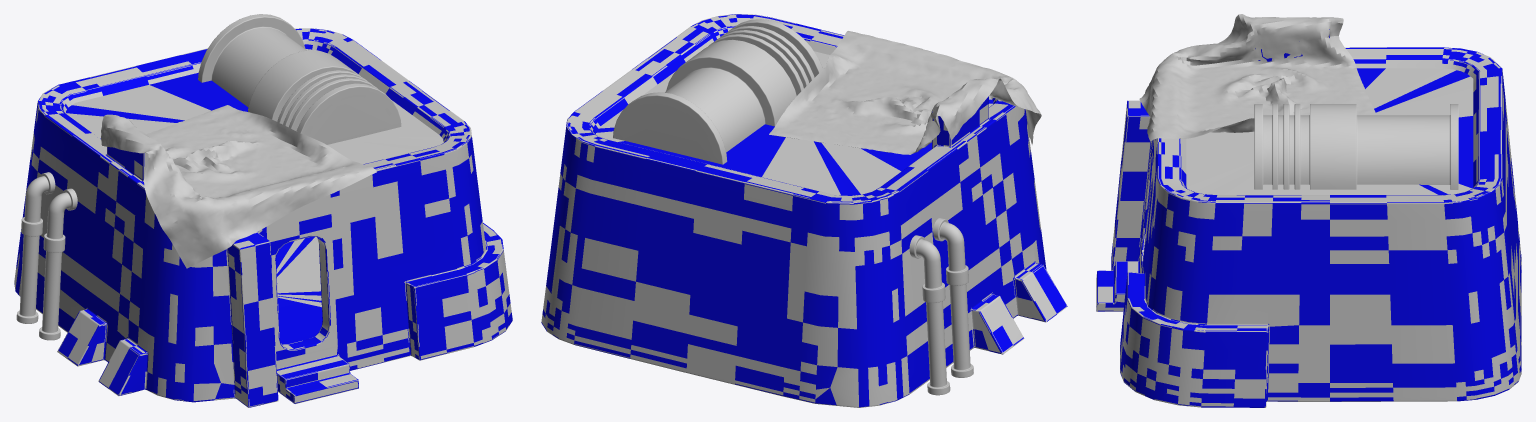
The model's file is building.obj.
3 views of the same model, side by side, from view 1: azimuth 30°, elevation 25°; view 2: azimuth 150°, elevation 25°; view 3: azimuth 270°, elevation 25° (orthographic). The views are drawn at different scales.
Parts seen in each view (by area): view 1: buiding_low, sheet_low, pipe_1_low, pipe_3_low, pipe_2_low; view 2: buiding_low, sheet_low, pipe_1_low, pipe_2_low, pipe_3_low; view 3: buiding_low, sheet_low, pipe_1_low.
Part boxes in pixels (x1,y1,x2,y2): buiding_low: (14, 28, 512, 407); sheet_low: (101, 105, 376, 268); pipe_1_low: (198, 14, 401, 144); pipe_3_low: (39, 188, 77, 340); pipe_2_low: (16, 172, 55, 323); buiding_low: (541, 14, 1067, 407); sheet_low: (769, 31, 1041, 154); pipe_1_low: (613, 19, 822, 164); pipe_2_low: (909, 235, 950, 395); pipe_3_low: (933, 218, 973, 377); buiding_low: (1096, 29, 1521, 407); sheet_low: (1139, 14, 1376, 141); pipe_1_low: (1254, 104, 1458, 189).
Bounding box in the file's own units: 27.4 × 15.95 × 25.49.
